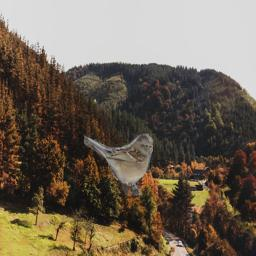Sparrow: (84, 133, 153, 196)
